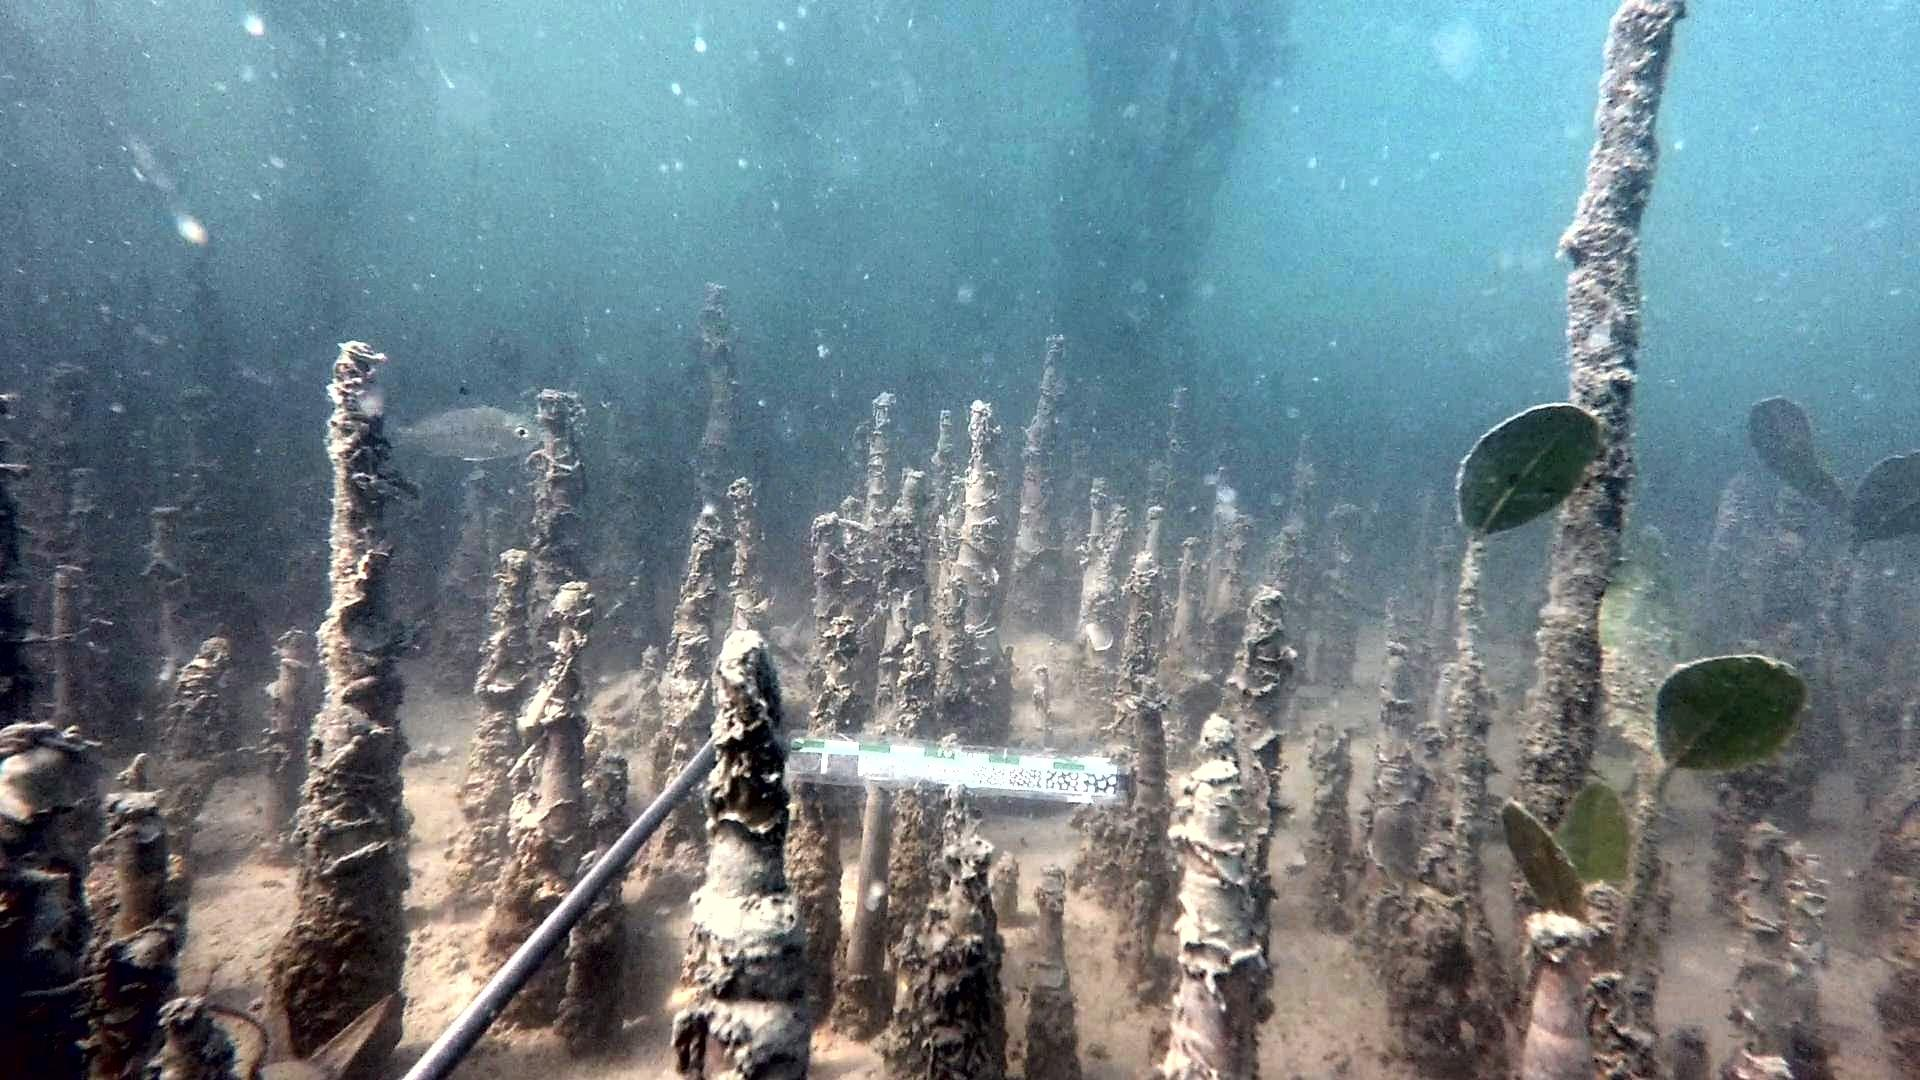gerres: (392, 382, 542, 465)
